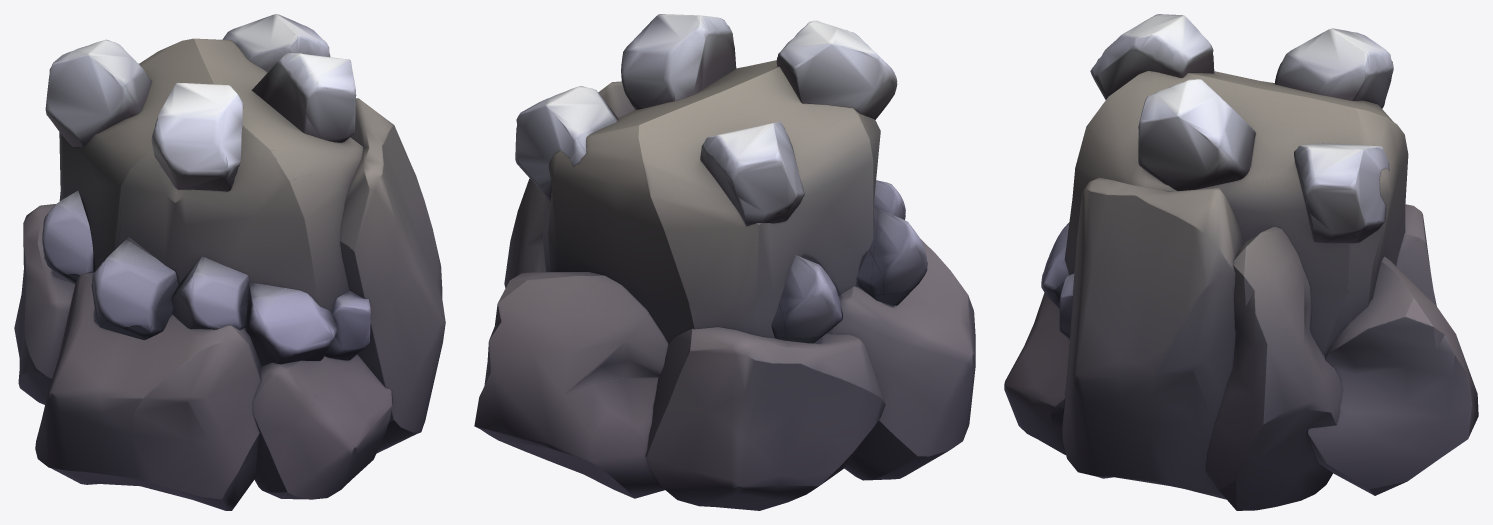
File: Ore_iron.fbx
The picture shows the model from 3 angles, left to right: view 1: azimuth 30°, elevation 25°; view 2: azimuth 150°, elevation 25°; view 3: azimuth 270°, elevation 25°; orthographic projection. The views are drawn at different scales.
Parts seen in each view (by area): view 1: Cube.002; view 2: Cube.002; view 3: Cube.002.
Part boxes in pixels (<box>): Cube.002: <box>14,14,445,510</box>; Cube.002: <box>474,14,975,510</box>; Cube.002: <box>1004,14,1478,510</box>.
Bounding box in the file's own units: 251 × 232 × 250.
2 materials, 2 textured.
